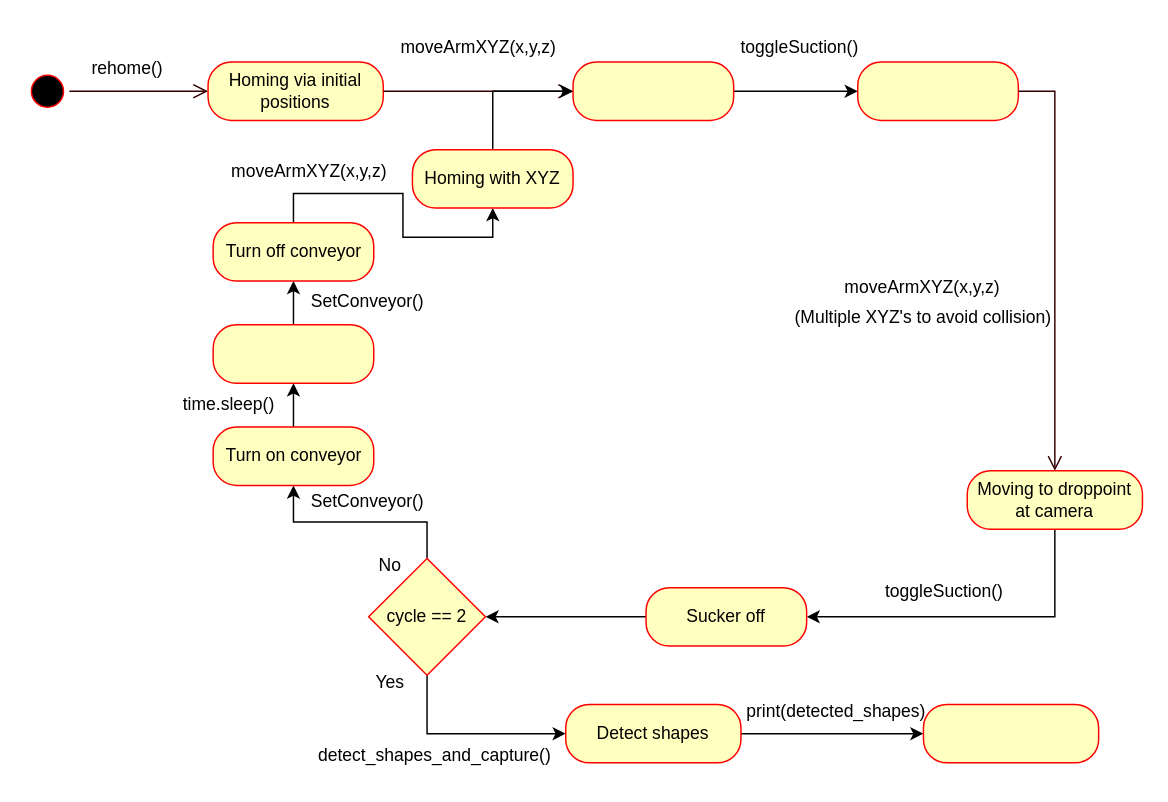
This 1168x802 diagram has some shape labels left out. The centre of each missing label's shape, as x and y in pixels:
"Delay" belongs at pixel 293 353.
"Move to Object" belongs at pixel 653 90.
"Print detected shapes" belongs at pixel 1010 733.
"Sucker on" belongs at pixel 937 90.
